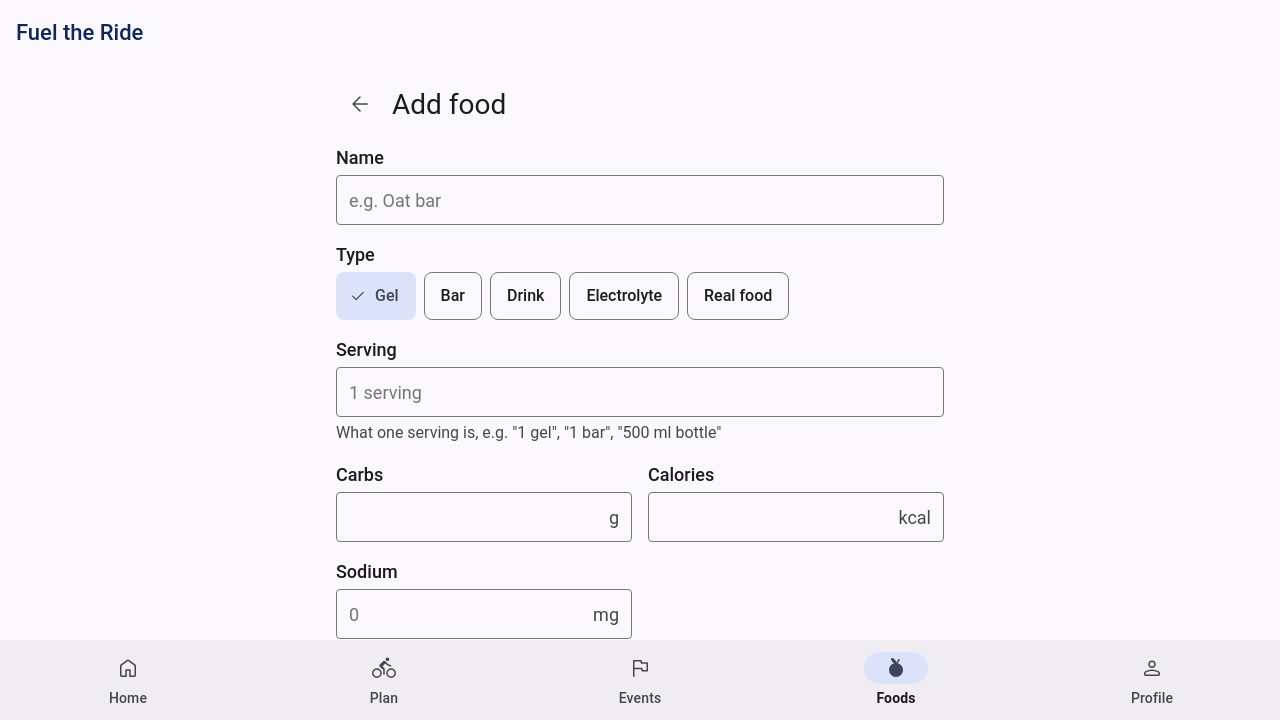
add food › the fluid field only appears for drinks and electrolytes
The width and height of the screenshot is (1280, 720).
Check: the field labelled "Name" is shown, box [337,176,943,224]
Check: the field labelled "Fluid" is not shown
Click the radio button labelled "Electrolyte". click: (624,296)
box: [569,272,679,320]
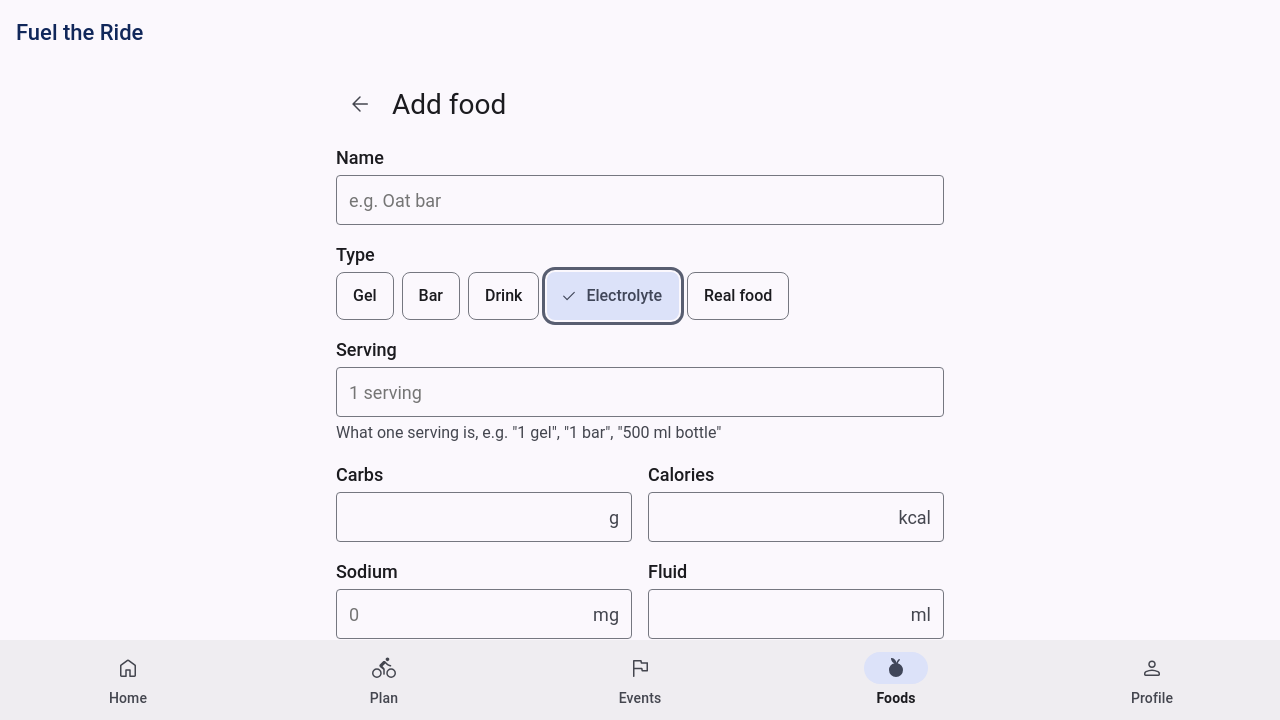
Check: the field labelled "Fluid" is shown, box [649,590,911,638]
